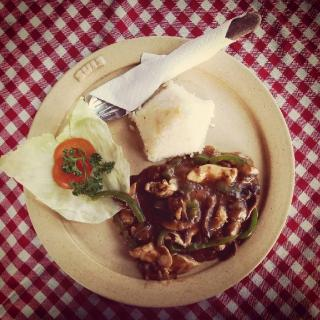tomato: (54, 137, 95, 169), (54, 153, 89, 190)
